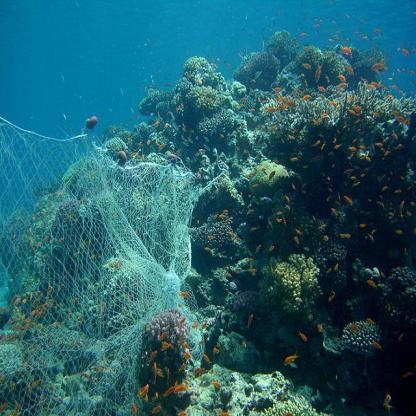net: (1, 133, 200, 409)
